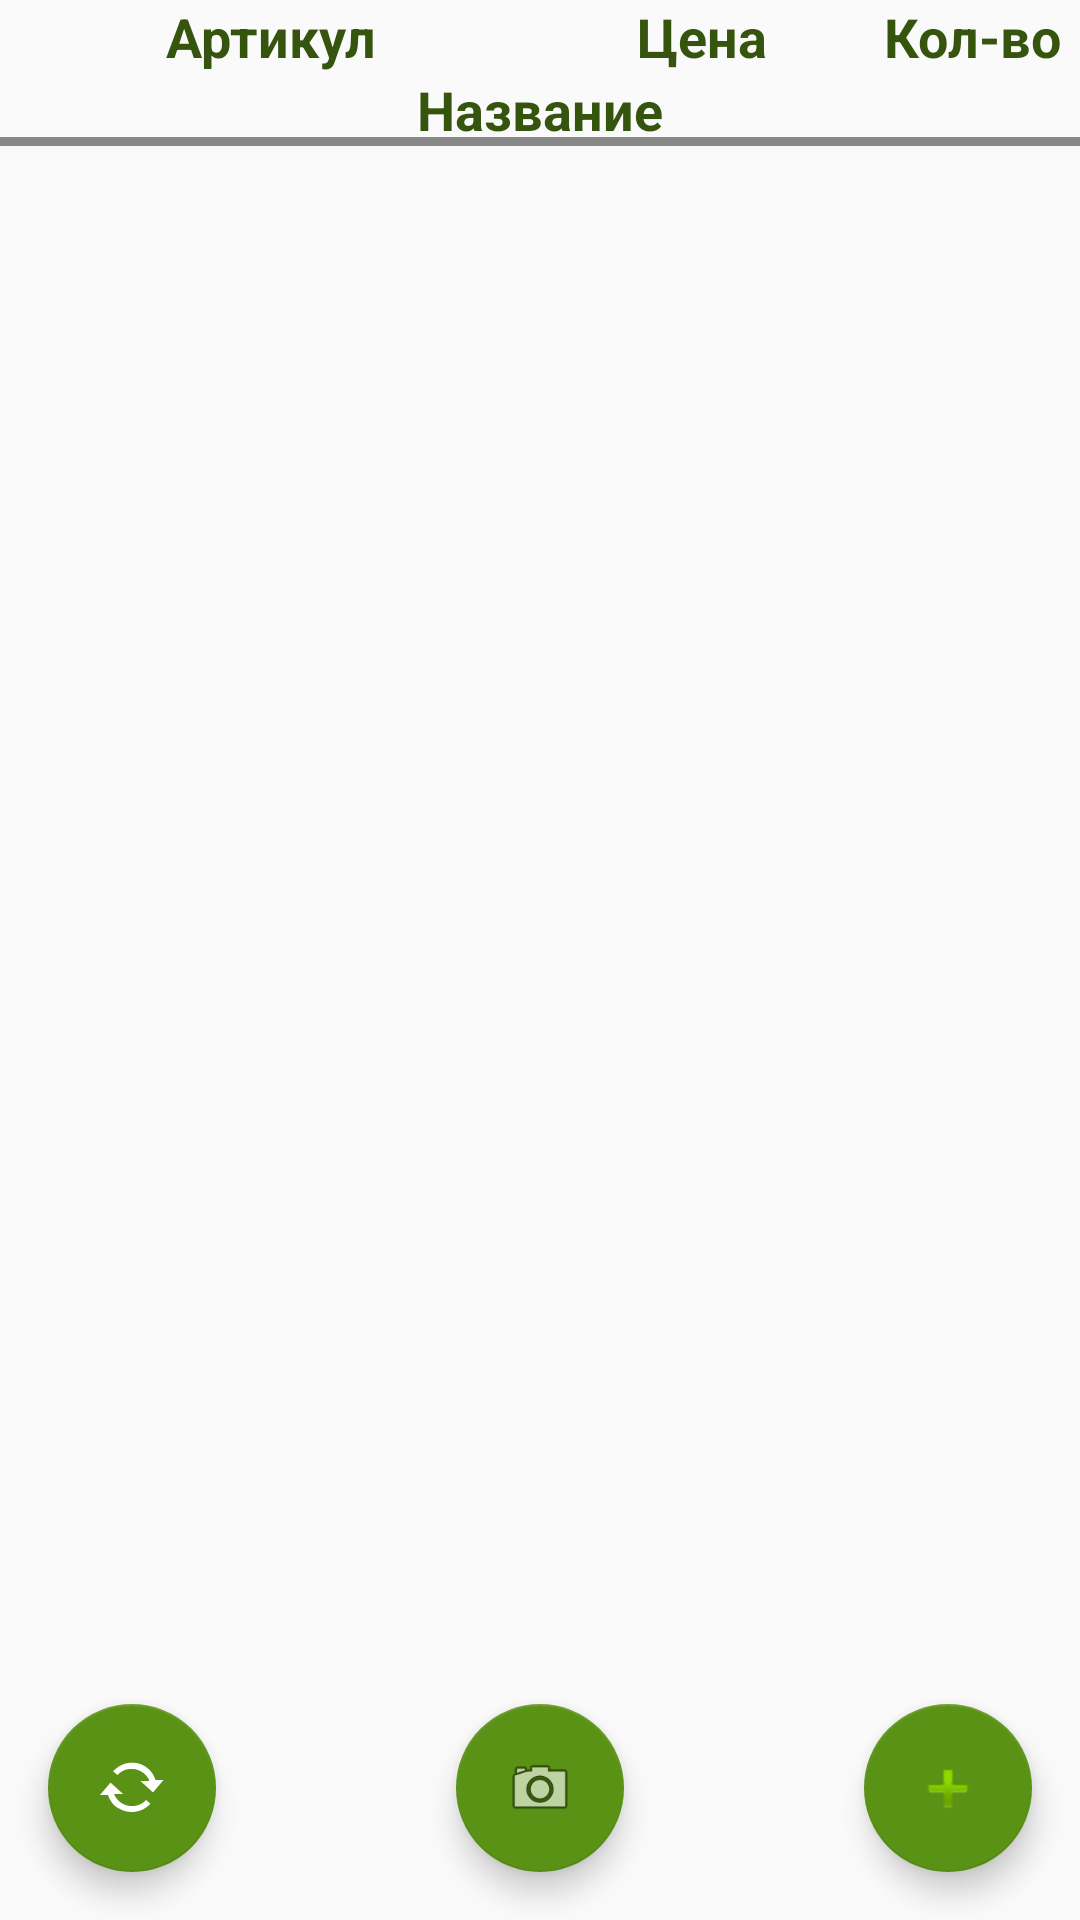

Named icons in this screenshot (1080w x 1920h) and their bounding boxes, (x1, y1, x2, y2):
add: (864, 1704, 1032, 1872)
camera: (456, 1704, 624, 1872)
sync: (48, 1704, 216, 1872)
